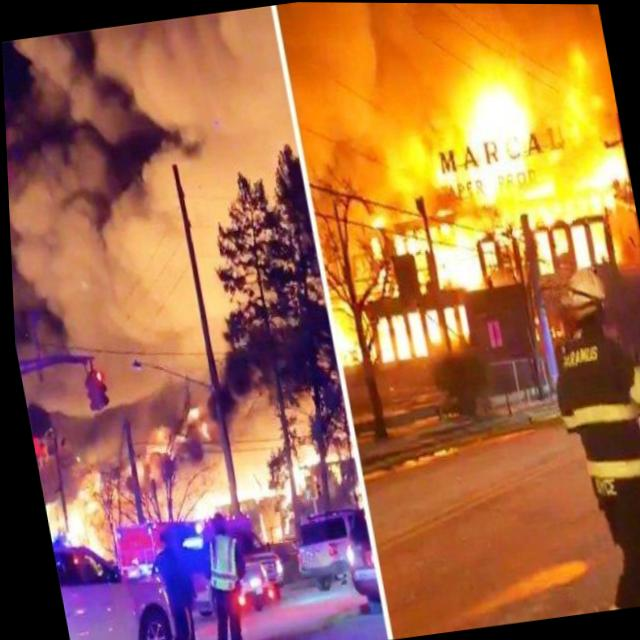fire: (286, 37, 640, 372), (173, 440, 317, 518), (35, 461, 115, 568), (107, 417, 180, 491), (170, 399, 213, 448), (319, 450, 340, 484)
